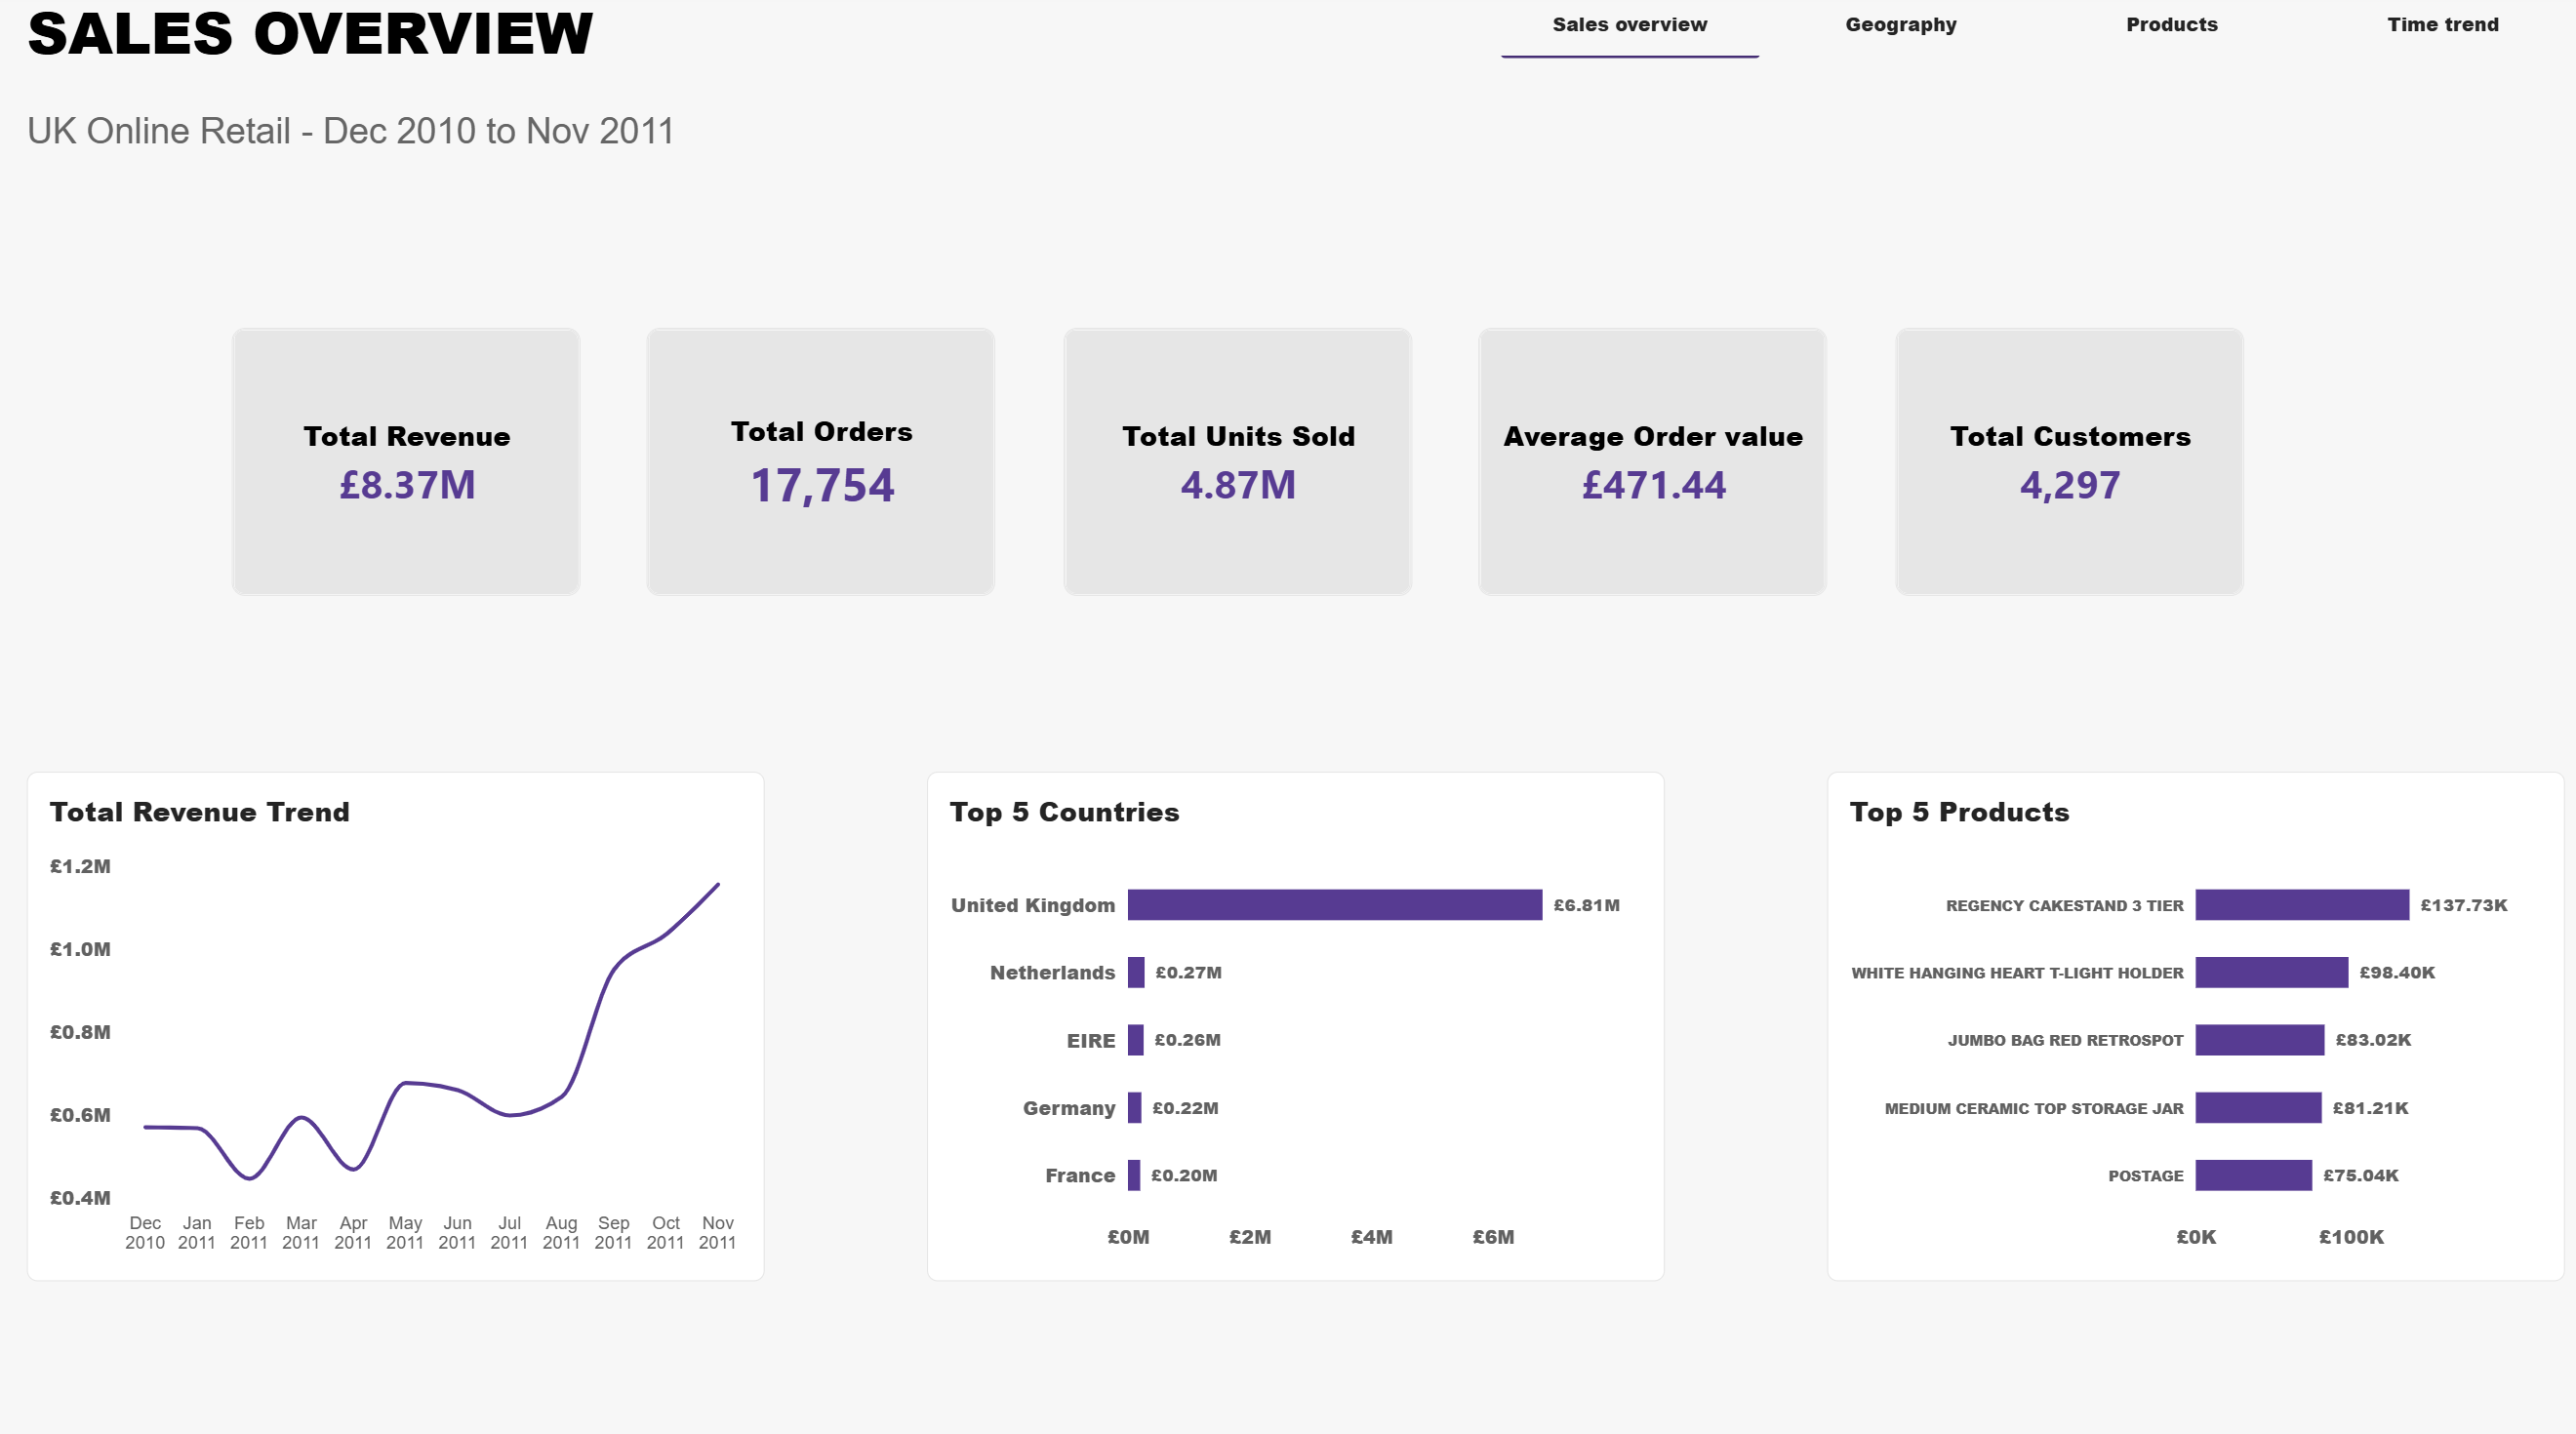

Layout of this report page (visuals, bound fields, positions):
{"tool":"powerbi","page":{"name":"Sales overview","canvas":[1920,1080],"ordinal":0},"visuals":[{"type":"textbox","box":[10,0,366.7,88.3],"z":0},{"type":"textbox","box":[20,0,495.6,88.7],"z":1000},{"type":"cardVisual","fields":{"Data":["_measures.Total Revenue"]},"box":[172.3,250,260,200],"z":2000},{"type":"cardVisual","fields":{"Data":["_measures.Total Orders"]},"box":[481.8,250.9,260,200],"z":3000},{"type":"cardVisual","fields":{"Data":["_measures.Total Units Sold"]},"box":[792.3,250,260,200],"z":4000},{"type":"cardVisual","fields":{"Data":["_measures.Average Order value"]},"box":[1102.3,250,260,200],"z":5000},{"type":"cardVisual","fields":{"Data":["_measures.Total Customers"]},"box":[1412.3,250,260,200],"z":6000},{"type":"textbox","box":[20,88.7,495.6,49.8],"z":7000},{"type":"pageNavigator","box":[1118.9,0,800,50],"z":8000},{"type":"lineChart","title":"Total Revenue Trend","fields":{"Category":["DateTable.YearMonth"],"Y":["_measures.Total Revenue"]},"box":[20,581.8,550,380],"z":8001},{"type":"clusteredBarChart","title":"Top 5 Countries","fields":{"Category":["retail.Country"],"Y":["_measures.Total Revenue"]},"box":[690.9,581.8,550,380],"z":8002},{"type":"clusteredBarChart","title":"Top 5 Products","fields":{"Category":["retail.Description"],"Y":["_measures.Total Revenue"]},"box":[1361.8,581.8,550,380],"z":8003}]}

Visuals, with their boxes in screenshot pixels (x1, y1, x2, y2), scaled from the page's 1920x1080 canvas onto the 2576x1434 screenshot:
textbox: x1=14, y1=0, x2=505, y2=117
textbox: x1=27, y1=0, x2=692, y2=118
cardVisual - _measures.Total Revenue: x1=231, y1=332, x2=580, y2=597
cardVisual - _measures.Total Orders: x1=646, y1=334, x2=995, y2=599
cardVisual - _measures.Total Units Sold: x1=1063, y1=332, x2=1412, y2=597
cardVisual - _measures.Average Order value: x1=1479, y1=332, x2=1828, y2=597
cardVisual - _measures.Total Customers: x1=1895, y1=332, x2=2243, y2=597
textbox: x1=27, y1=118, x2=692, y2=184
pageNavigator: x1=1501, y1=0, x2=2574, y2=66
"Total Revenue Trend" lineChart: x1=27, y1=773, x2=765, y2=1277
"Top 5 Countries" clusteredBarChart: x1=927, y1=773, x2=1665, y2=1277
"Top 5 Products" clusteredBarChart: x1=1827, y1=773, x2=2565, y2=1277
